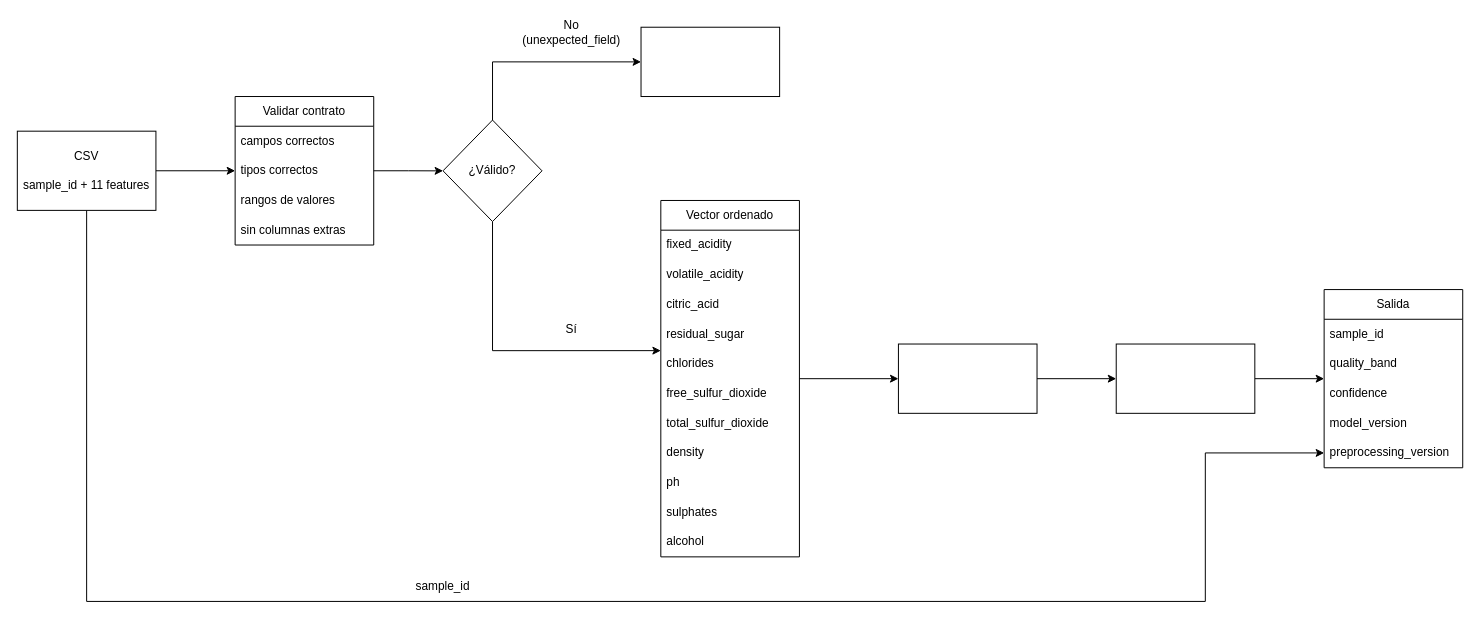
This 1480x627 diagram has some shape labels left out. The centre of each missing label's shape, as x and y in pixels:
"Error de validación No se llama al modelo" goes at point (710, 61).
"Modelo .joblib" goes at point (967, 378).
"Prediccion" goes at point (1185, 378).
